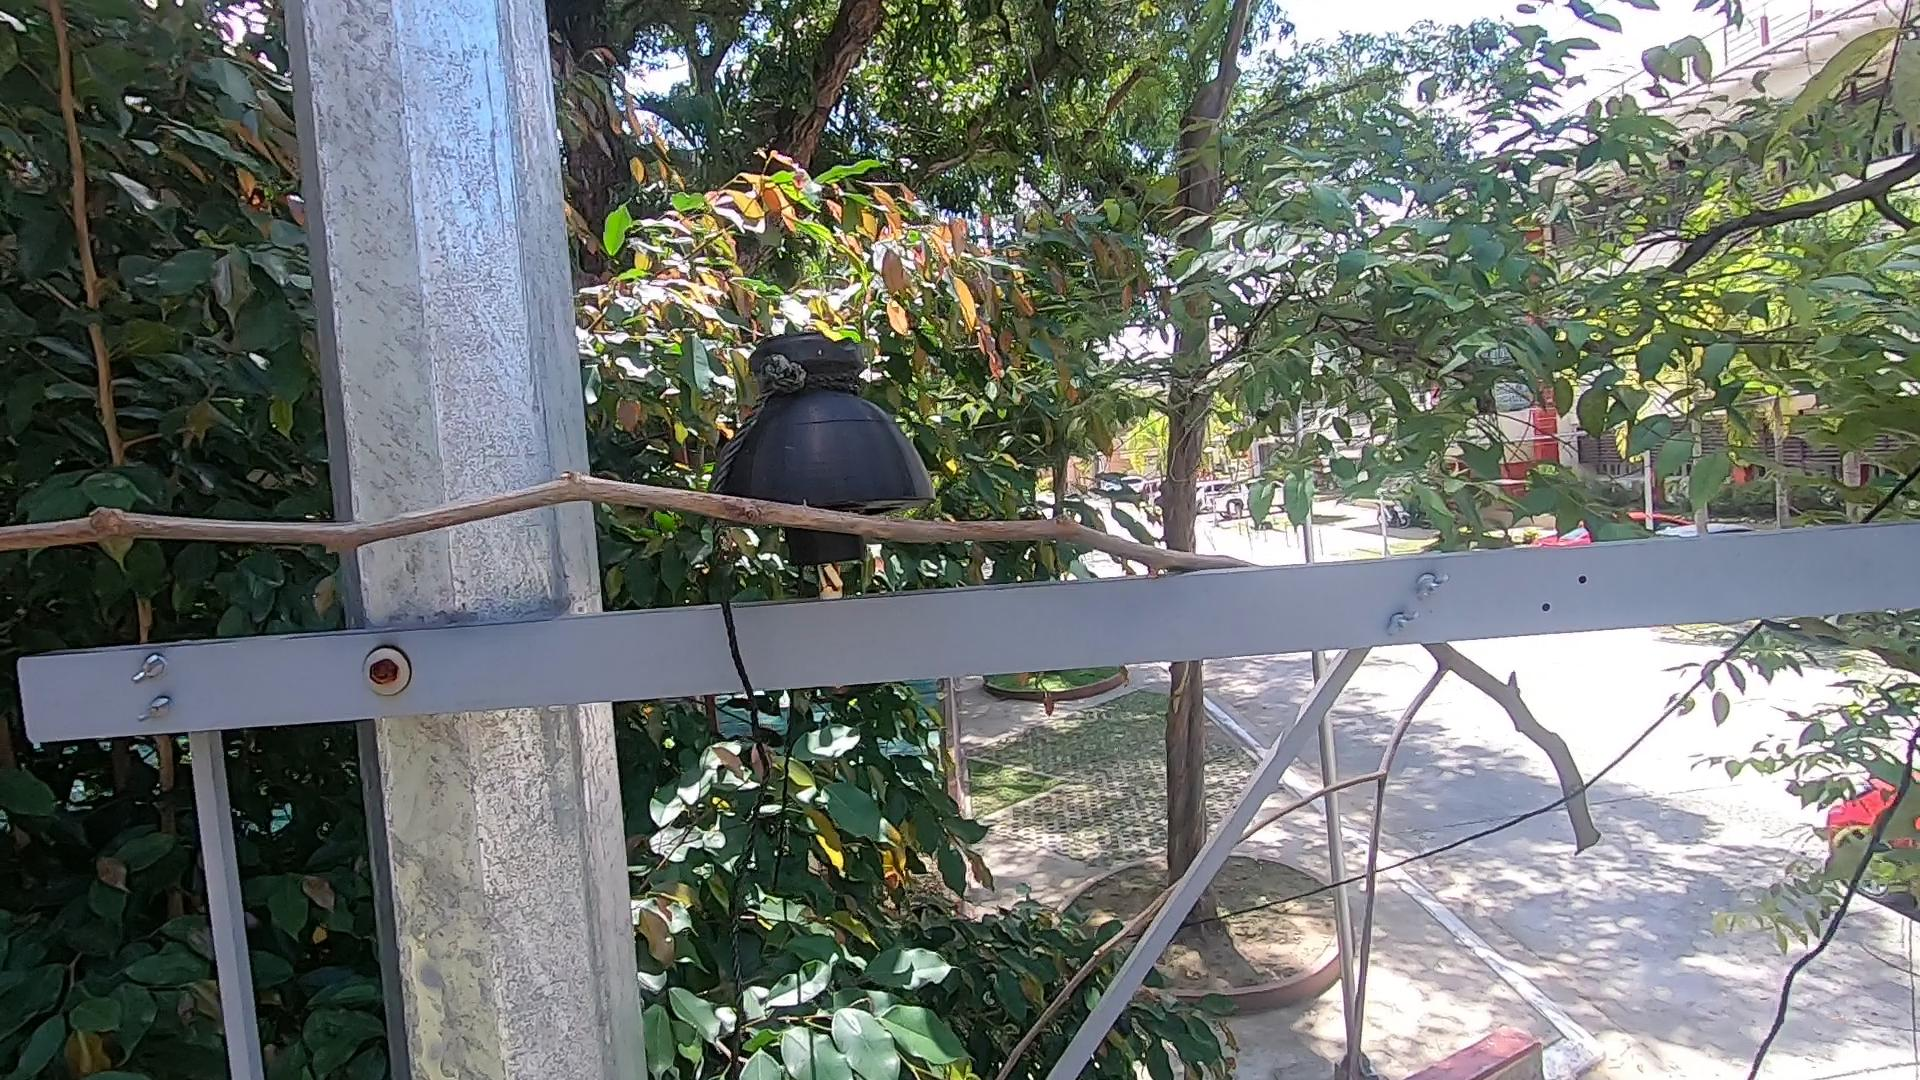tree branch: (982, 640, 1633, 1073), (1, 459, 1275, 609)
